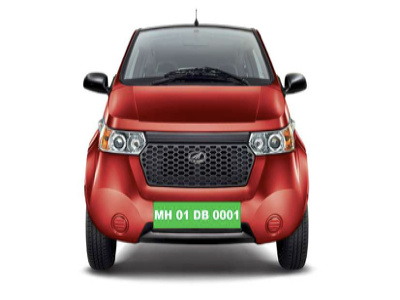licence: (151, 205, 243, 222)
